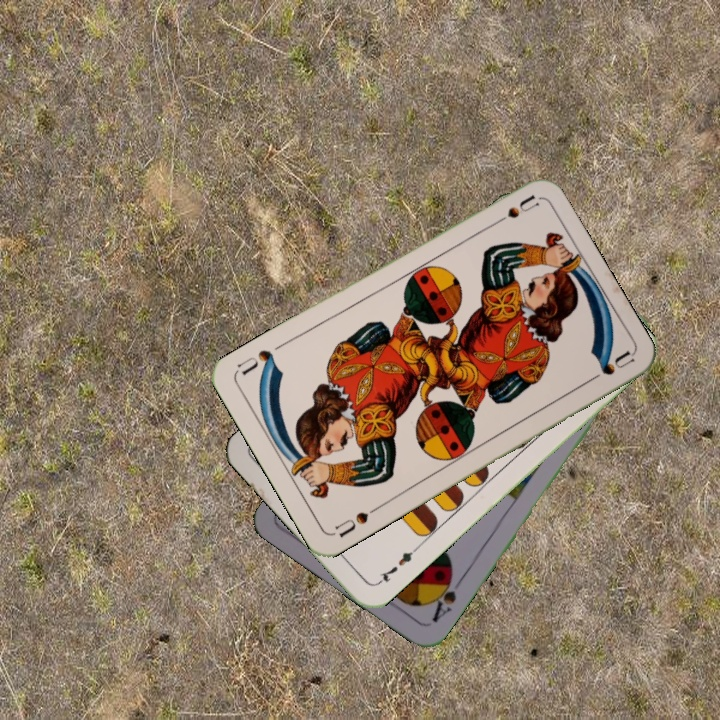E7: (373, 543, 421, 588)
SA: (426, 568, 466, 625)
SU: (485, 190, 541, 231), (329, 501, 383, 540)
